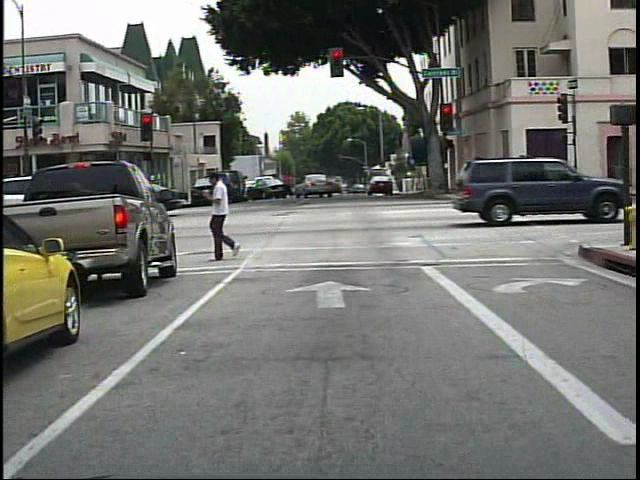person: (203, 168, 249, 264), (279, 163, 299, 207)
